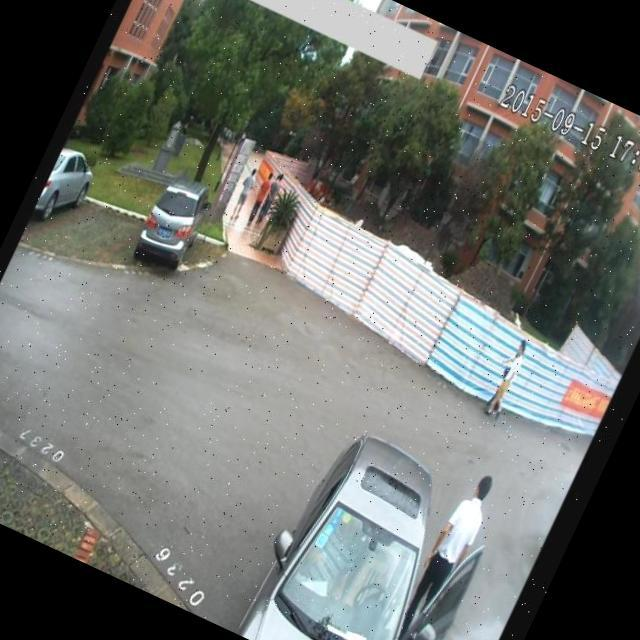person: (394, 463, 504, 640), (478, 333, 536, 428), (222, 166, 262, 230), (239, 171, 277, 237), (254, 170, 288, 230)
